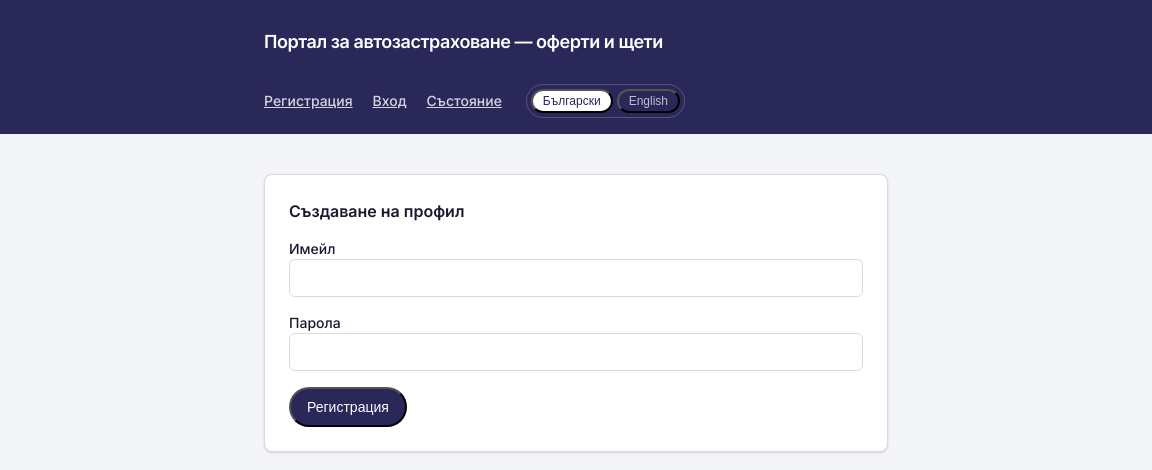
Test: Bulgarian pass — no English static copy left on any screen › the registration success screen shows no English copy
The width and height of the screenshot is (1152, 470).
Step 1. Type "a@example.com" into the field labelled "Имейл" → (576, 278), box [289, 259, 863, 297]
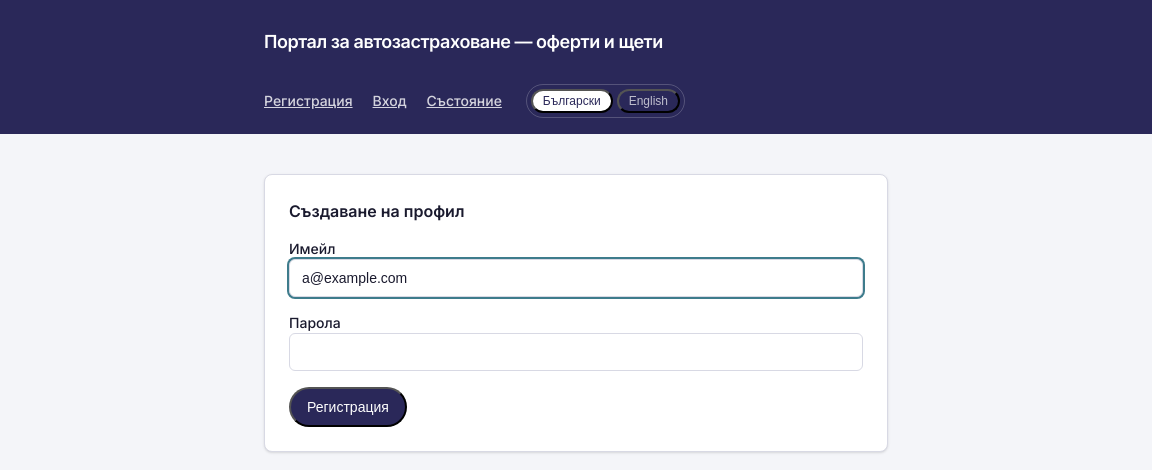
Step 2. Type "Password123" into the password field labelled "Парола" → (576, 352), box [289, 333, 863, 371]
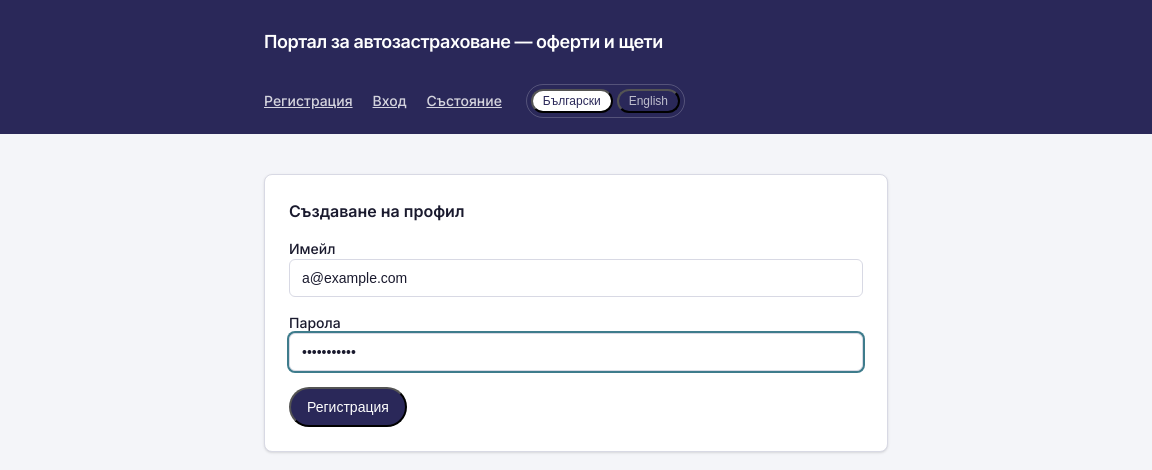
Step 3. Click the button "Регистрация" → (348, 407), box [289, 387, 407, 427]
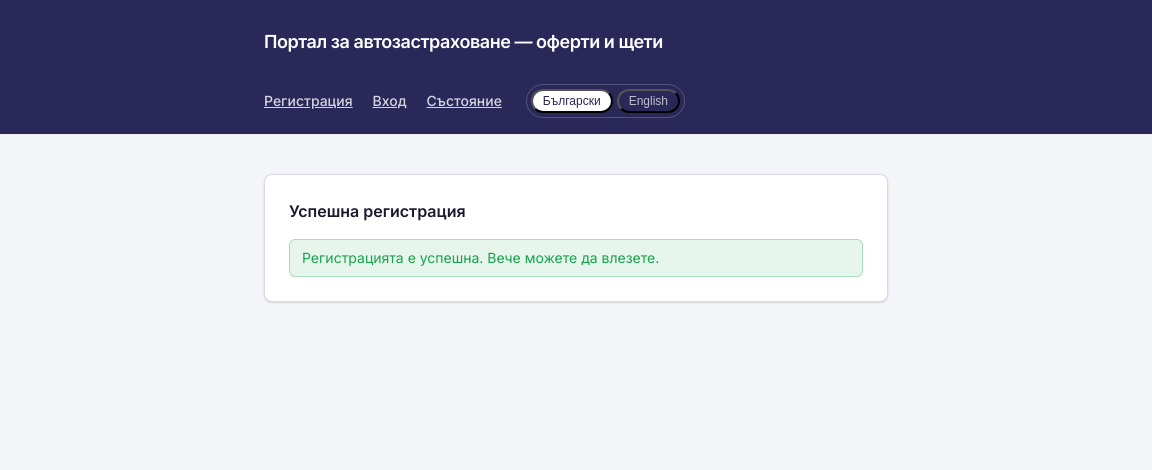
Now the message "Регистрацията е успешна. Вече можете да влезете." is shown, box [289, 239, 863, 277]
